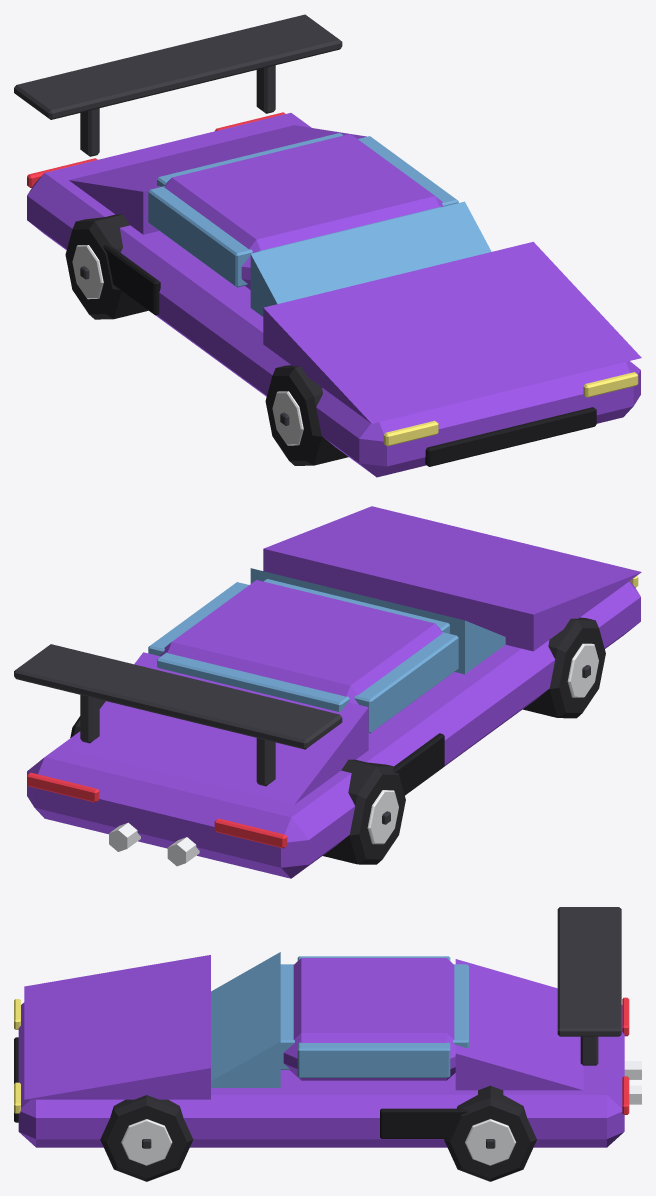
The model's file is PurpleSupercar.fbx.
3 renders of one model, top to bottom at view 1: azimuth 30°, elevation 25°; view 2: azimuth 150°, elevation 25°; view 3: azimuth 270°, elevation 25°, orthographic. The views are drawn at different scales.
Parts seen in each view (by area): view 1: PurpleSupercar, PurpleSupercar_WheelBR, PurpleSupercar_WheelFR; view 2: PurpleSupercar, PurpleSupercar_WheelBR, PurpleSupercar_WheelFR; view 3: PurpleSupercar, PurpleSupercar_WheelBL, PurpleSupercar_WheelFL.
Boxes of the visible parts, x1=… form: PurpleSupercar: x1=14, y1=14, x2=641, y2=477; PurpleSupercar_WheelBR: x1=65, y1=214, x2=148, y2=319; PurpleSupercar_WheelFR: x1=265, y1=365, x2=348, y2=465; PurpleSupercar: x1=14, y1=506, x2=641, y2=878; PurpleSupercar_WheelBR: x1=323, y1=759, x2=405, y2=864; PurpleSupercar_WheelFR: x1=523, y1=617, x2=605, y2=718; PurpleSupercar: x1=14, y1=907, x2=641, y2=1147; PurpleSupercar_WheelBL: x1=444, y1=1085, x2=536, y2=1181; PurpleSupercar_WheelFL: x1=100, y1=1095, x2=193, y2=1181.
Bounding box in the file's own units: 5.22 × 2.94 × 10.78.
Materials: 1 (1 with a texture image).
